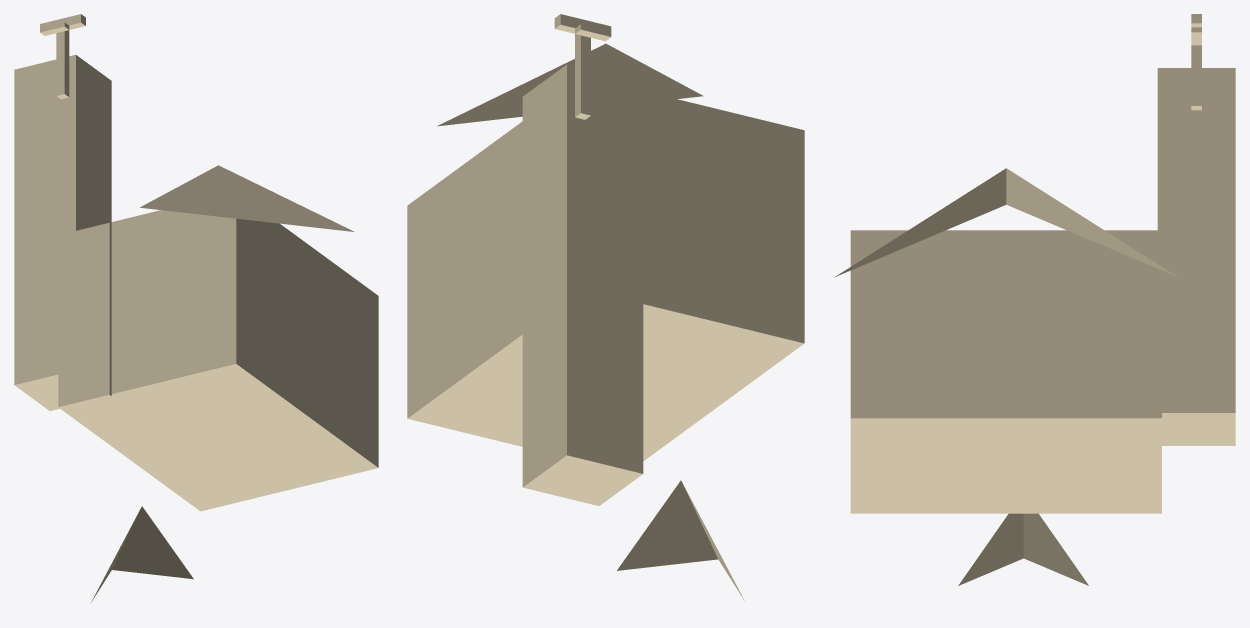
Rendered from katolik-gereja.glb.
The picture shows the model from 3 angles, left to right: view 1: azimuth 30°, elevation 25°; view 2: azimuth 150°, elevation 25°; view 3: azimuth 270°, elevation 25°; orthographic projection. The views are drawn at different scales.
Visible parts, largest first — view 1: katolik-gereja.glb; view 2: katolik-gereja.glb; view 3: katolik-gereja.glb.
Part boxes in pixels (left/top/right/bottom): katolik-gereja.glb: left=14, top=14, right=378, bottom=603; katolik-gereja.glb: left=407, top=14, right=804, bottom=600; katolik-gereja.glb: left=834, top=14, right=1235, bottom=585.
Size of the model in its own units: 2 by 3.58 by 2.33.
